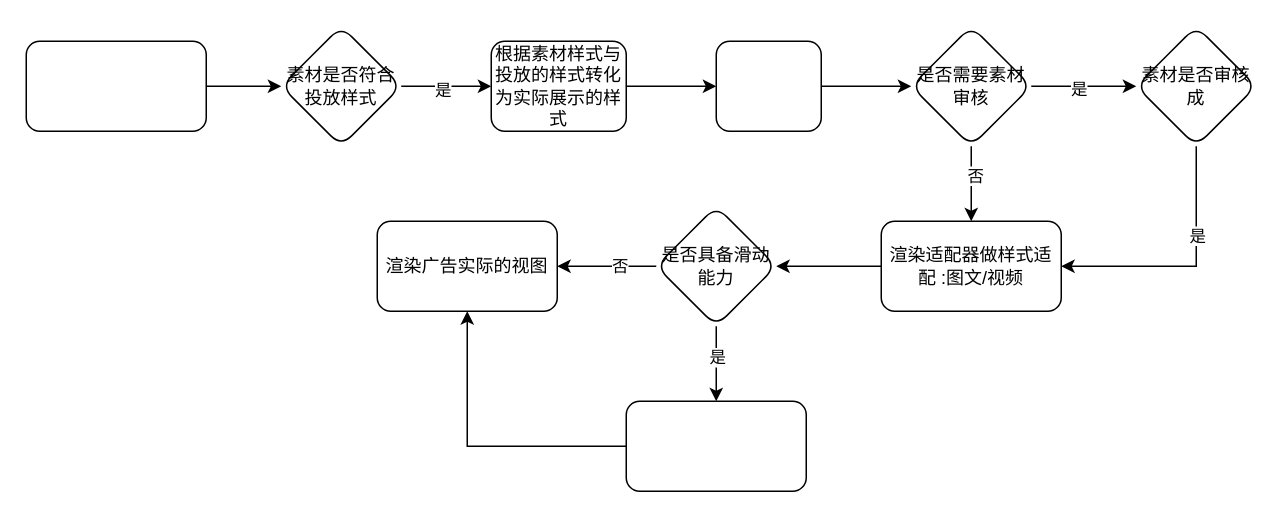
Some shapes in this 1283 by 518 pixel diagram are drawn without their labels. Each missing label, with the box of its shape:
增加联盟的滑动view到页面: (625, 400, 806, 491)
最有广告: (715, 40, 821, 131)
获取sdk素材: (25, 40, 206, 131)
